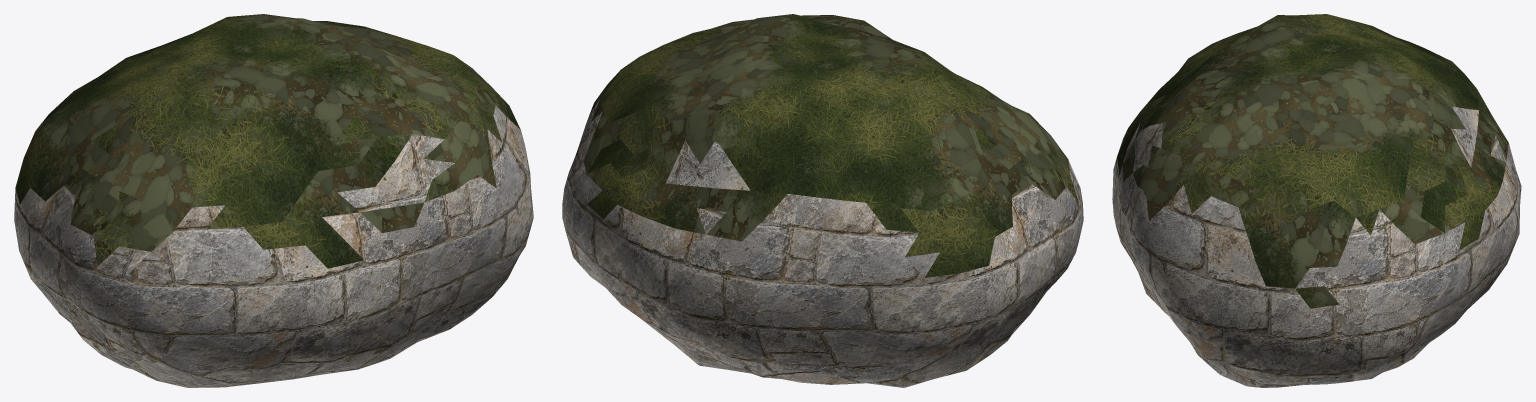
Rendered from moss-boulder-v01.glb.
3 renders of one model, left to right at view 1: azimuth 30°, elevation 25°; view 2: azimuth 150°, elevation 25°; view 3: azimuth 270°, elevation 25°, orthographic. The views are drawn at different scales.
Parts seen in each view (by area): view 1: boulder; view 2: boulder; view 3: boulder.
Part boxes in pixels (<box>): boulder: <box>14,14,533,387</box>; boulder: <box>562,14,1083,387</box>; boulder: <box>1112,14,1521,387</box>.
Size of the model in its own units: 2.67 by 1.62 by 2.18.
2 materials, 2 textured.
